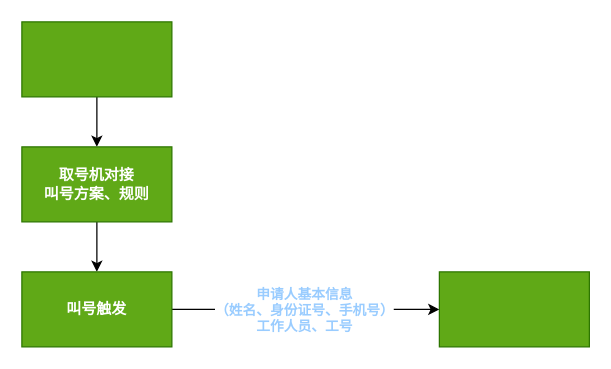
The diagram is 611 pixels wide and 369 high, and some of its shapes have lost their labels. Here are the shapes that lost their labels. From the top down, the box of each, then its label:
(21, 21, 172, 97): 统一预约
(438, 271, 589, 347): 接收叫号数据 预填信息
